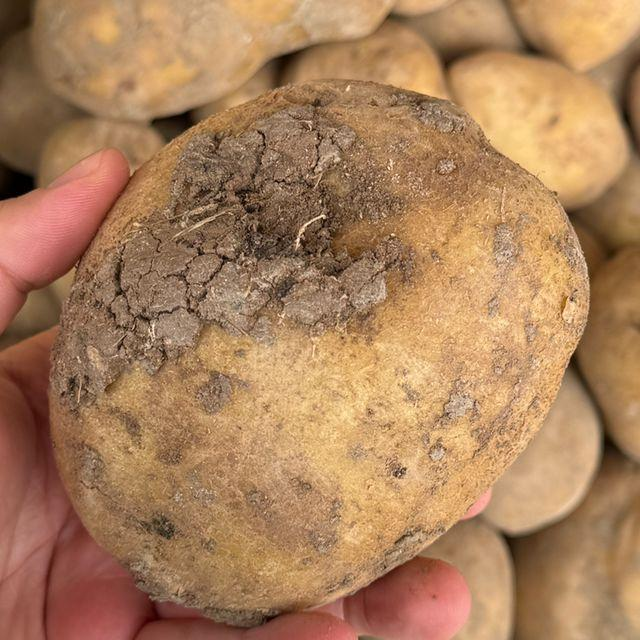potato: (5, 32, 615, 640)
